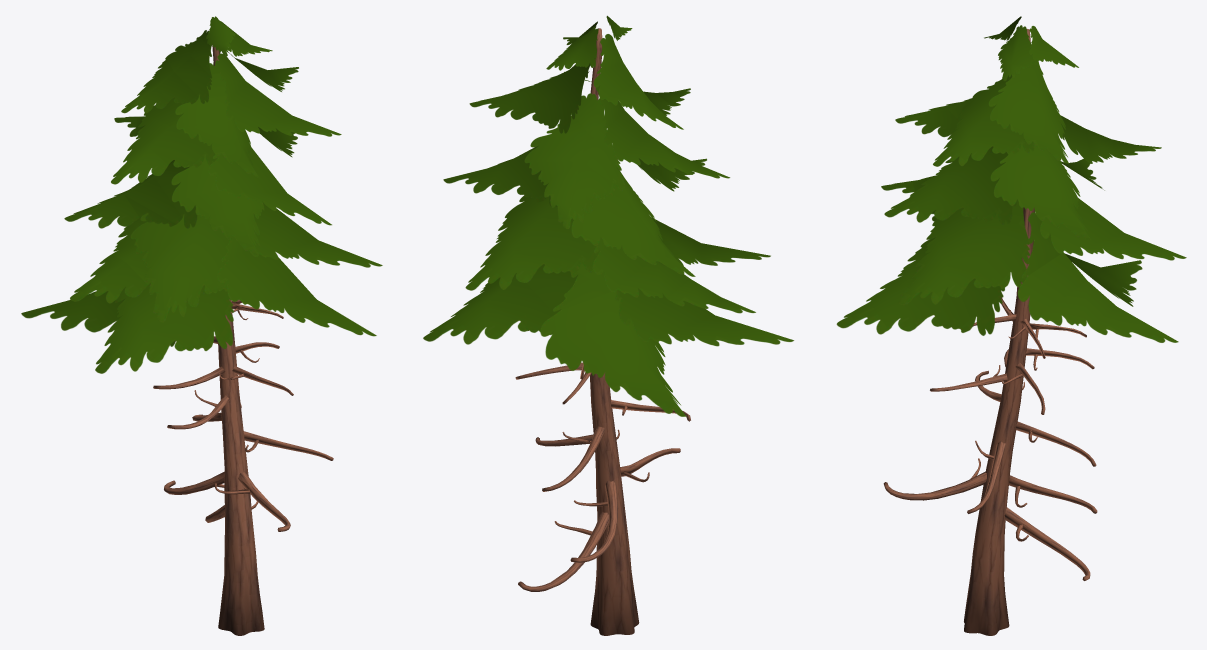
File: tree_fir_b.glb
3 views of the same model, side by side, from view 1: azimuth 30°, elevation 25°; view 2: azimuth 150°, elevation 25°; view 3: azimuth 270°, elevation 25° (orthographic). The views are drawn at different scales.
Parts seen in each view (by area): view 1: Pine_3; view 2: Pine_3; view 3: Pine_3.
Part boxes in pixels (x1,y1,x2,y2): Pine_3: (21, 16, 382, 635); Pine_3: (423, 15, 793, 635); Pine_3: (836, 16, 1186, 635).
Size of the model in its own units: 3.61 by 7.39 by 4.
Materials: 2 (2 with a texture image).
